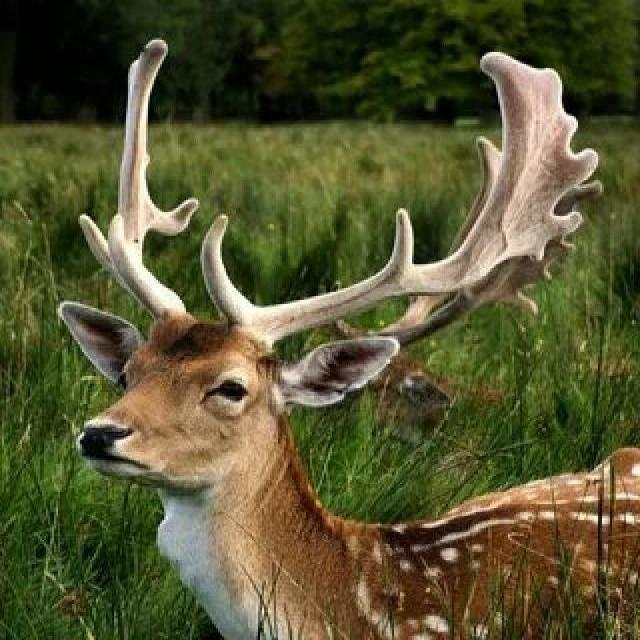deer: (56, 126, 640, 639)
